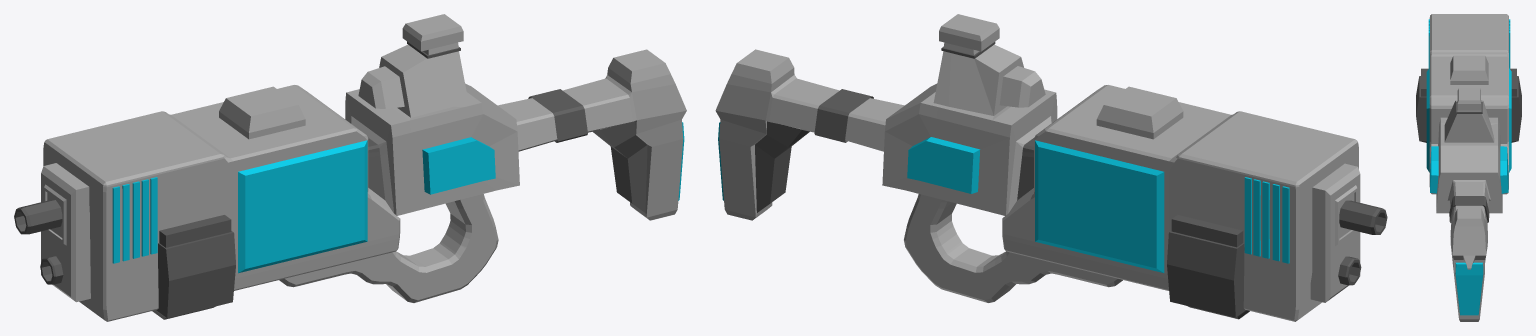
File: Sci_Fi_ParticuleGun.fbx
The picture shows the model from 3 angles, left to right: view 1: azimuth 30°, elevation 25°; view 2: azimuth 150°, elevation 25°; view 3: azimuth 270°, elevation 25°; orthographic projection. The views are drawn at different scales.
Visible parts, largest first — view 1: Cube; view 2: Cube; view 3: Cube.
Boxes of the visible parts, x1,y1,x2,y2 form: Cube: [14, 14, 686, 321]; Cube: [715, 14, 1387, 321]; Cube: [1416, 14, 1521, 321].
Bounding box in the file's own units: 980 × 378 × 213.
